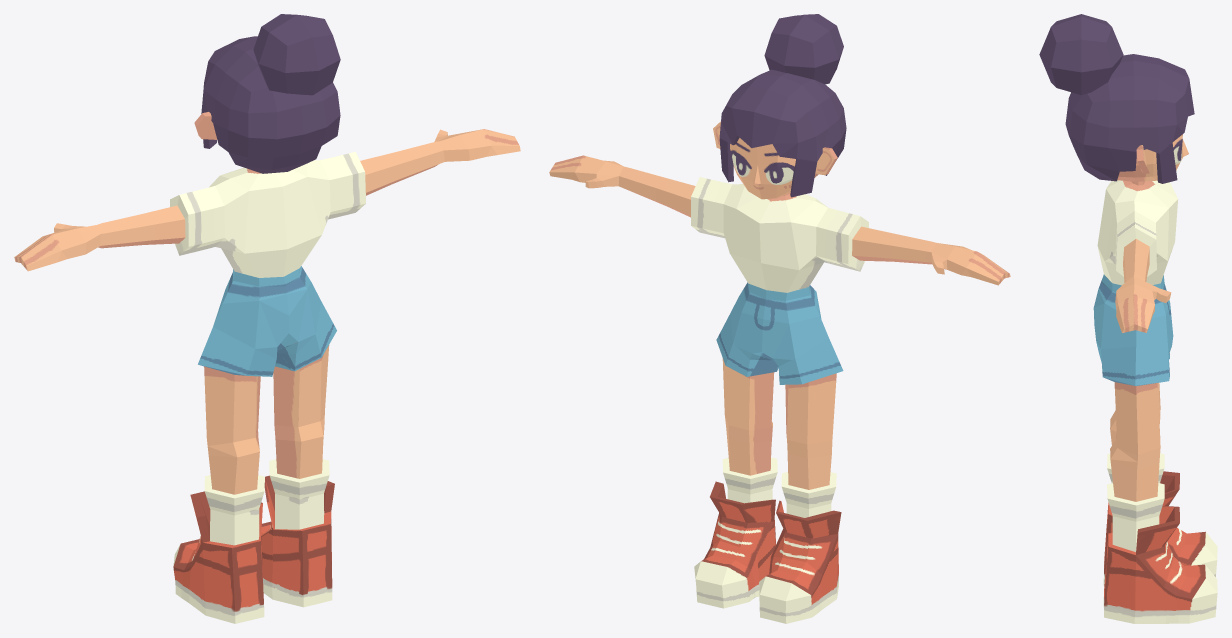
The model's file is lpwomen2.glb.
3 renders of one model, left to right at view 1: azimuth 30°, elevation 25°; view 2: azimuth 150°, elevation 25°; view 3: azimuth 270°, elevation 25°, orthographic. The views are drawn at different scales.
Parts seen in each view (by area): view 1: body, hair, bum; view 2: body, hair, bum, head; view 3: body, hair, bum, head.
Part boxes in pixels (bbox=[...]): body: bbox=[14, 129, 520, 623]; hair: bbox=[201, 36, 340, 173]; bum: bbox=[253, 14, 340, 95]; body: bbox=[549, 155, 1010, 623]; hair: bbox=[719, 69, 846, 197]; bum: bbox=[764, 14, 843, 84]; head: bbox=[730, 138, 818, 199]; body: bbox=[1093, 180, 1217, 623]; hair: bbox=[1065, 54, 1194, 183]; bum: bbox=[1039, 14, 1123, 95]; head: bbox=[1117, 134, 1188, 181].
Bounding box in the file's own units: 3.59 × 4.21 × 1.17.
Materials: 2 (2 with a texture image).
